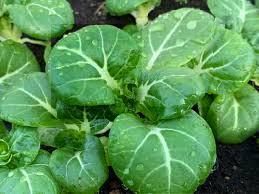Healthy-Pechay: (16, 5, 247, 185)
